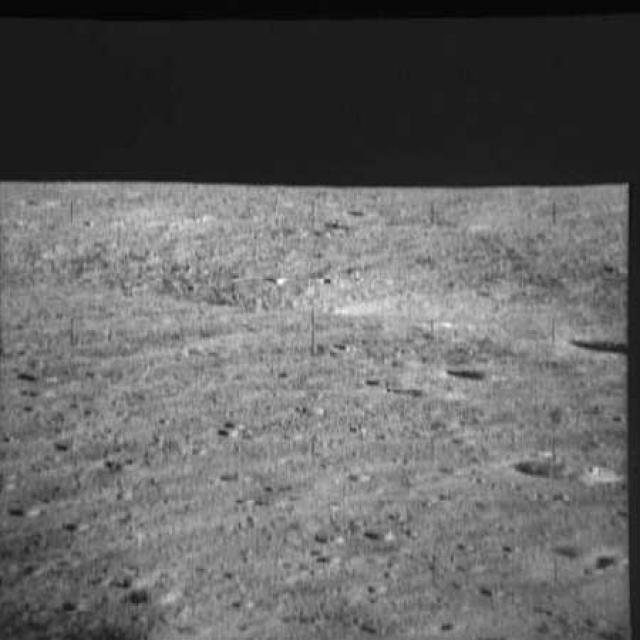crater: (501, 448, 633, 500), (542, 531, 628, 582), (560, 324, 638, 363), (444, 358, 525, 382), (120, 579, 184, 608), (11, 366, 68, 389)
